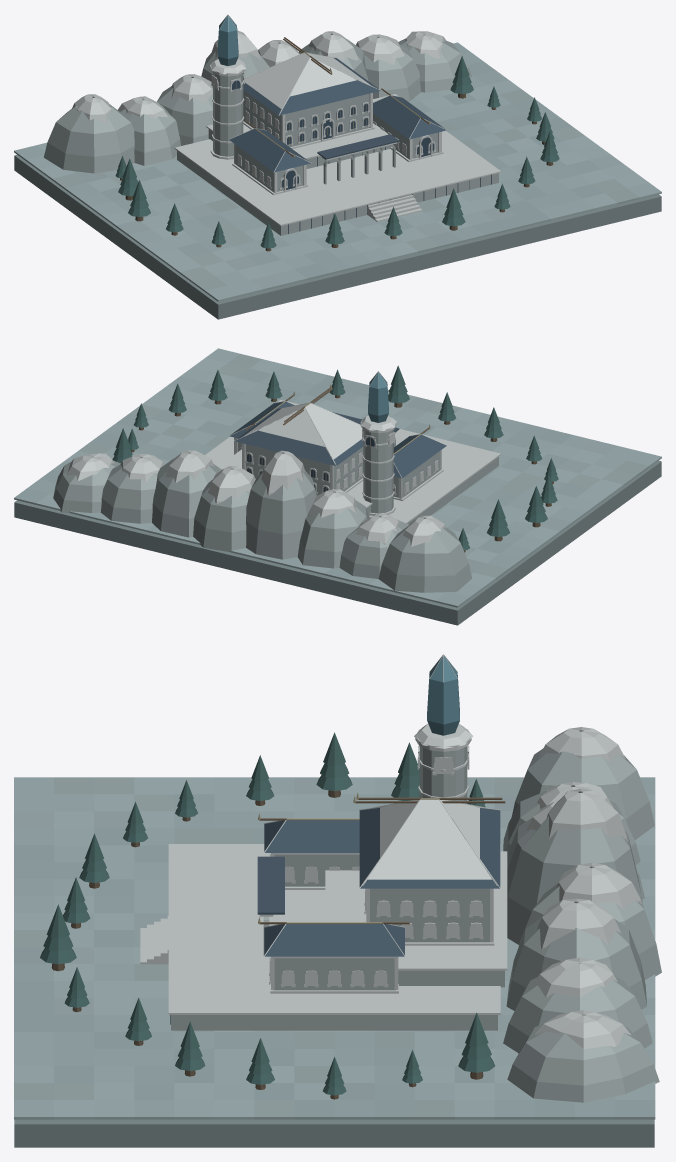
File: ice.glb
3 renders of one model, top to bottom at view 1: azimuth 30°, elevation 25°; view 2: azimuth 150°, elevation 25°; view 3: azimuth 270°, elevation 25°, orthographic. The views are drawn at different scales.
Parts seen in each view (by area): view 1: site, stone-ledge, archive-hall-roof, archive-hall, landscape, signal, signal-roof; view 2: site, archive-hall-roof, landscape, stone-ledge, archive-hall, signal, signal-roof; view 3: site, stone-ledge, archive-hall-roof, archive-hall, landscape, signal-roof, signal.
Boxes of the visible parts, x1,y1,x2,y2 form: site: (14, 30, 661, 319); stone-ledge: (174, 94, 501, 235); archive-hall-roof: (229, 37, 446, 172); archive-hall: (232, 90, 443, 194); landscape: (115, 56, 559, 251); signal: (210, 62, 245, 159); signal-roof: (210, 14, 246, 74); site: (14, 348, 661, 625); archive-hall-roof: (229, 384, 446, 478); landscape: (112, 365, 558, 552); stone-ledge: (204, 400, 501, 524); archive-hall: (234, 431, 443, 500); signal: (360, 421, 396, 515); signal-roof: (360, 371, 396, 430); site: (14, 727, 661, 1147); stone-ledge: (140, 844, 507, 1030); archive-hall-roof: (257, 792, 505, 956); archive-hall: (259, 853, 494, 993); landscape: (40, 732, 494, 1099); signal-roof: (414, 654, 473, 748); signal: (415, 728, 471, 803).
Bounding box in the file's own units: 59.01 × 21.54 × 47.56.
